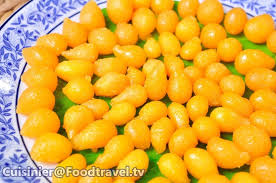tongyod: (28, 131, 74, 163), (14, 87, 62, 116), (206, 137, 249, 169), (66, 103, 98, 144), (18, 111, 63, 138), (237, 46, 271, 80), (157, 150, 190, 183), (184, 147, 220, 177), (232, 127, 271, 154), (244, 10, 274, 45), (165, 71, 195, 102), (20, 47, 62, 68), (21, 68, 61, 90), (60, 15, 88, 46), (92, 75, 134, 95), (218, 92, 252, 116), (112, 43, 149, 65), (126, 119, 154, 148), (77, 2, 107, 27), (62, 82, 96, 104), (103, 102, 135, 125), (133, 8, 159, 35), (224, 6, 247, 36), (192, 118, 225, 138), (191, 48, 224, 67), (198, 1, 223, 25), (145, 74, 167, 101), (137, 102, 170, 119), (177, 15, 198, 40), (159, 34, 180, 56), (113, 25, 137, 42)
